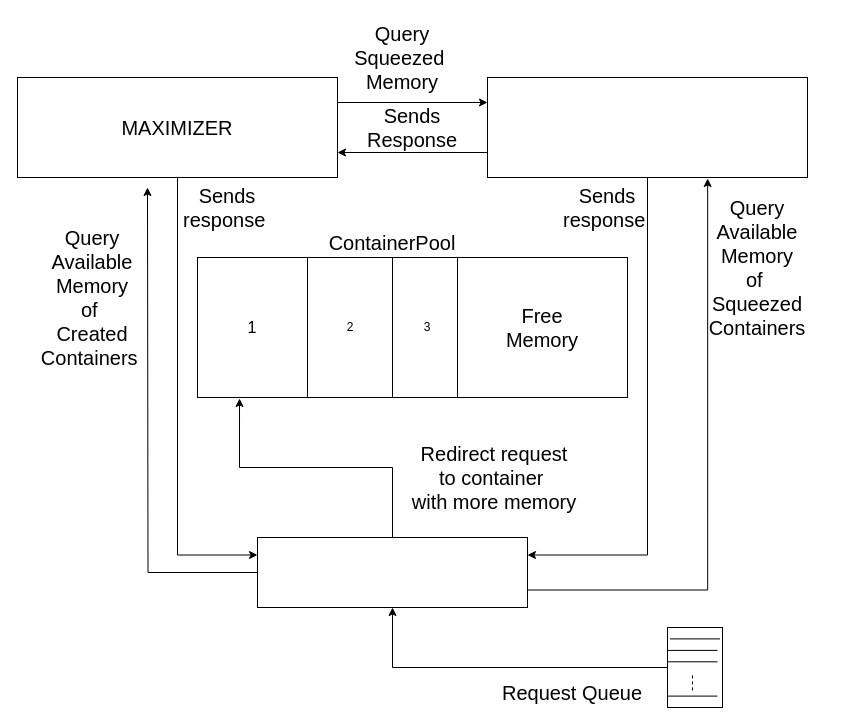
Image size: 845x725. Some labels were removed from this diagram. Here are the shapes that lost their labels. From the top down, the centre of each, then its label:
[647,127]: OVER-SUBSCRIPTION CONTROLLER
[392,572]: SCHEDULER
